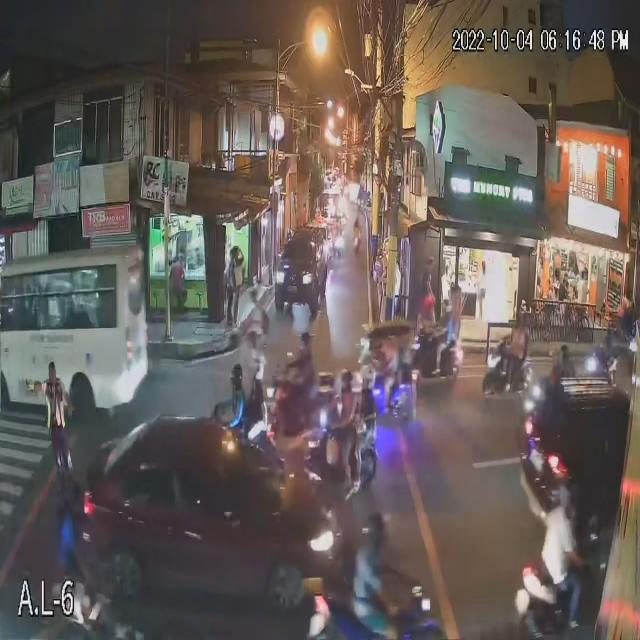helmet: (361, 519, 389, 543), (317, 374, 336, 391), (229, 367, 247, 384), (253, 361, 269, 378), (359, 371, 378, 384)
motorcycle: (303, 605, 465, 639), (302, 438, 390, 500), (516, 568, 585, 636), (484, 353, 533, 401), (408, 335, 462, 378), (265, 384, 315, 427)
rider: (548, 510, 583, 613), (354, 552, 394, 633), (341, 393, 359, 481), (508, 329, 528, 386), (445, 316, 460, 372), (364, 392, 377, 452), (250, 385, 266, 432), (293, 357, 310, 400), (229, 392, 245, 432)
